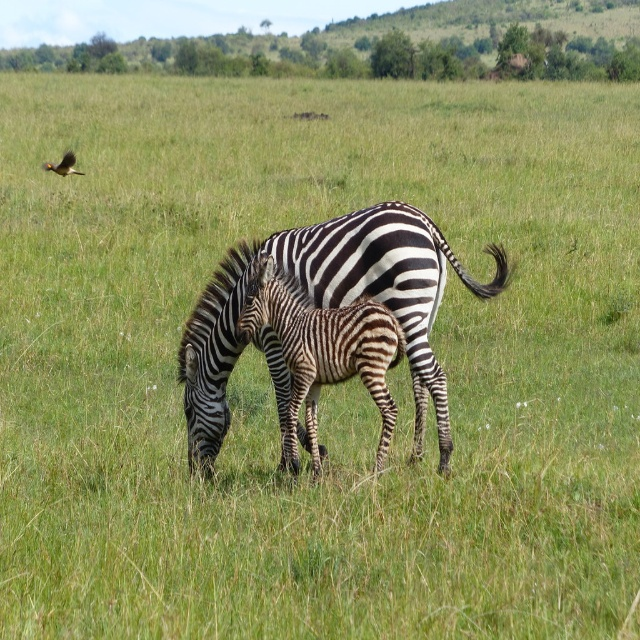Zebra: (174, 199, 521, 482), (234, 250, 409, 492)
